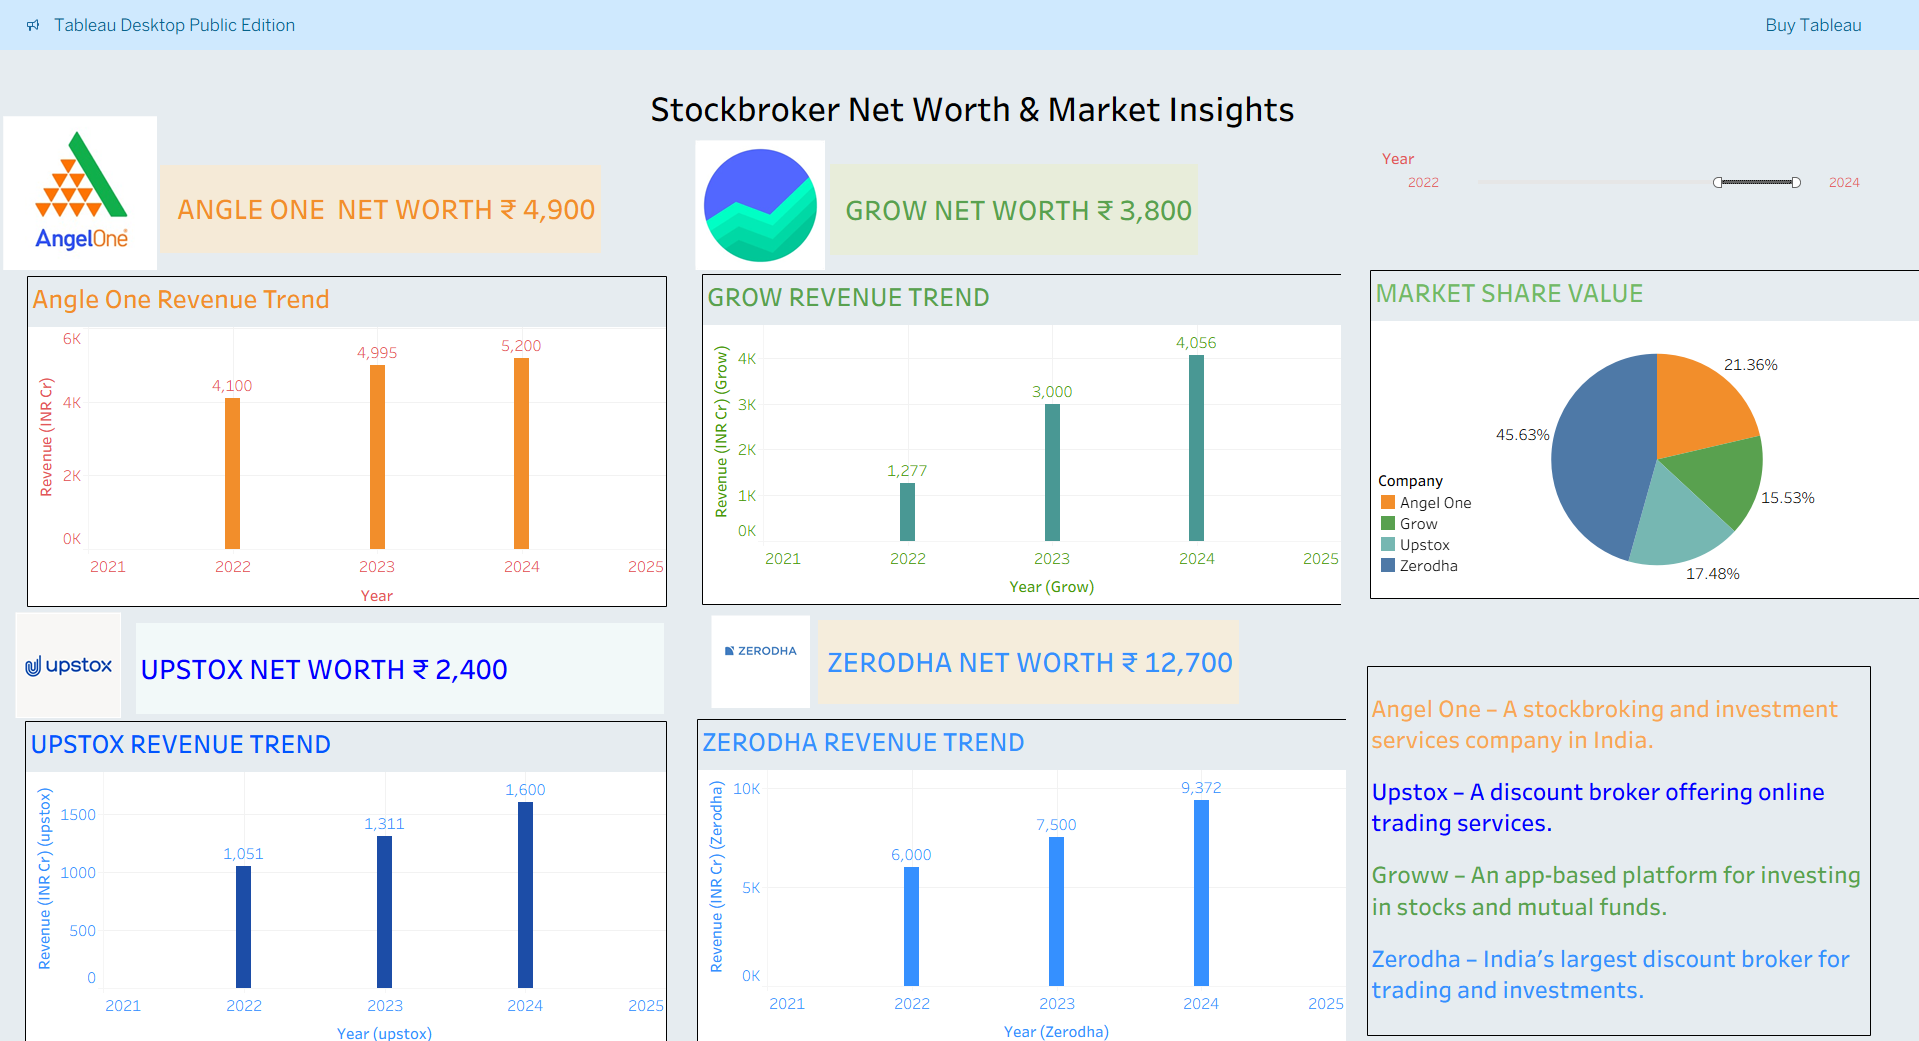

This screenshot's page, from the dashboard's own definition file:
{"tool":"tableau","page":{"name":"Dashboard 1","canvas":[1000,1000],"units":"permille","ordinal":0},"visuals":[{"type":"worksheet","title":"Sheet 5 (2)","mark":"Automatic","box":[607,47.6,194.4,118.5]},{"type":"worksheet","title":"Sheet 5","mark":"Automatic","box":[85.8,59.2,237.3,95.2]},{"type":"image","param":"Image/IMG-20250917-WA0028.jpg","box":[492.1,69.7,138.8,95.2]},{"type":"filter","title":"Sheet 1","param":"[federated.19bdsbw06x80741b1lqpw1bcte57].[none:Year:qk]","box":[829.5,92.9,84.8,75.5]},{"type":"worksheet","title":"Sheet 1","mark":"Bar","rows":["Revenue (INR Cr)"],"cols":["Year"],"box":[4.8,160.3,413.1,334.5]},{"type":"worksheet","title":"Sheet 2","mark":"Bar","rows":["Revenue (INR Cr) (Grow)"],"cols":["Year (Grow)"],"box":[448.4,170.7,368.1,327.5]},{"type":"legend","title":"Sheet 6","param":"[federated.19bdsbw06x80741b1lqpw1bcte57].[none:Company:nk]","box":[831.6,393.7,67.8,127.8]},{"type":"worksheet","title":"Sheet 5 (3)","mark":"Automatic","box":[160,505.2,205,109.2]},{"type":"image","param":"Image/4a8fc04a855b4e7a968e268b08543958.jpg","box":[471.9,509.9,151.5,117.3]},{"type":"image","param":"Image/IMG-20250917-WA0031.jpg","box":[4.8,515.7,151,96.4]},{"type":"worksheet","title":"Sheet 5 (4)","mark":"Automatic","box":[584.2,515.7,225.1,106.9]},{"type":"worksheet","title":"Sheet 4","mark":"Bar","rows":["Revenue (INR Cr) (Zerodha)"],"cols":["Year (Zerodha)"],"box":[446.5,633,368.1,362.4]},{"type":"worksheet","title":"Sheet 3","mark":"Bar","rows":["Revenue (INR Cr) (upstox)"],"cols":["Year (upstox)"],"box":[5.3,636.5,415.8,356.6]}]}

Visuals, with their boxes on the dashboard's canvas, which has no fixed pixel size, in thousandths of its width and height (x1, y1, x2, y2). These are canvas units, not pixel positions in the 1919x1041 screenshot, which may show the page scaled, cropped or inside an application window:
"Sheet 5 (2)" worksheet: select_region(607, 48, 801, 166)
"Sheet 5" worksheet: select_region(86, 59, 323, 154)
image: select_region(492, 70, 631, 165)
"Sheet 1" filter: select_region(830, 93, 914, 168)
"Sheet 1" worksheet (Bar marks): select_region(5, 160, 418, 495)
"Sheet 2" worksheet (Bar marks): select_region(448, 171, 816, 498)
"Sheet 6" legend: select_region(832, 394, 899, 522)
"Sheet 5 (3)" worksheet: select_region(160, 505, 365, 614)
image: select_region(472, 510, 623, 627)
image: select_region(5, 516, 156, 612)
"Sheet 5 (4)" worksheet: select_region(584, 516, 809, 623)
"Sheet 4" worksheet (Bar marks): select_region(446, 633, 815, 995)
"Sheet 3" worksheet (Bar marks): select_region(5, 636, 421, 993)
